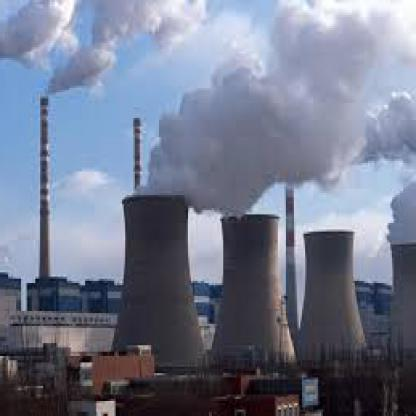Smoke: (153, 31, 369, 193), (45, 5, 143, 90)
